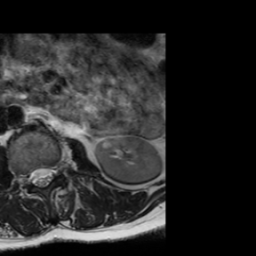CCS_normal: (38, 157, 46, 196)
LFS_normal: (54, 151, 64, 182)
LLS_normal: (46, 157, 54, 190)
RFS_normal: (20, 161, 29, 194)
RLS_normal: (28, 161, 38, 191)
